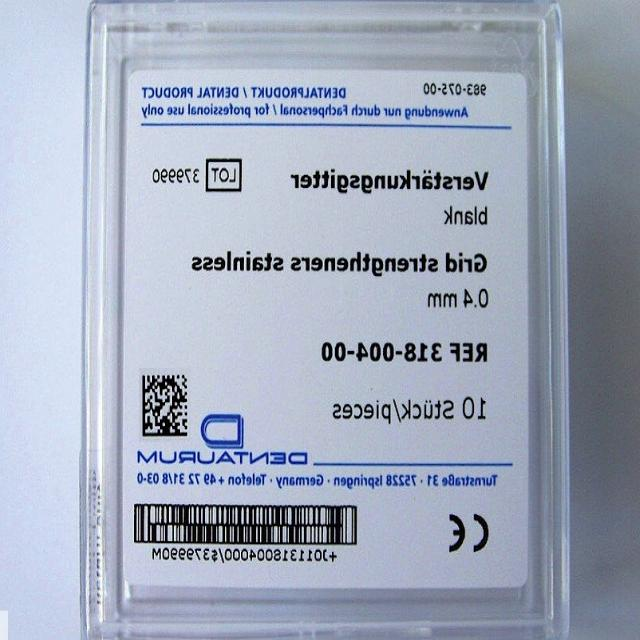DataMatrix: (139, 368, 191, 442)
